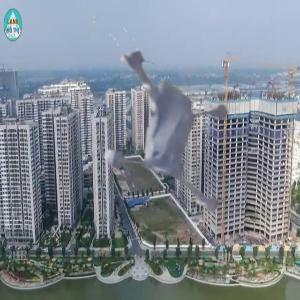drone: (50, 16, 248, 214)
